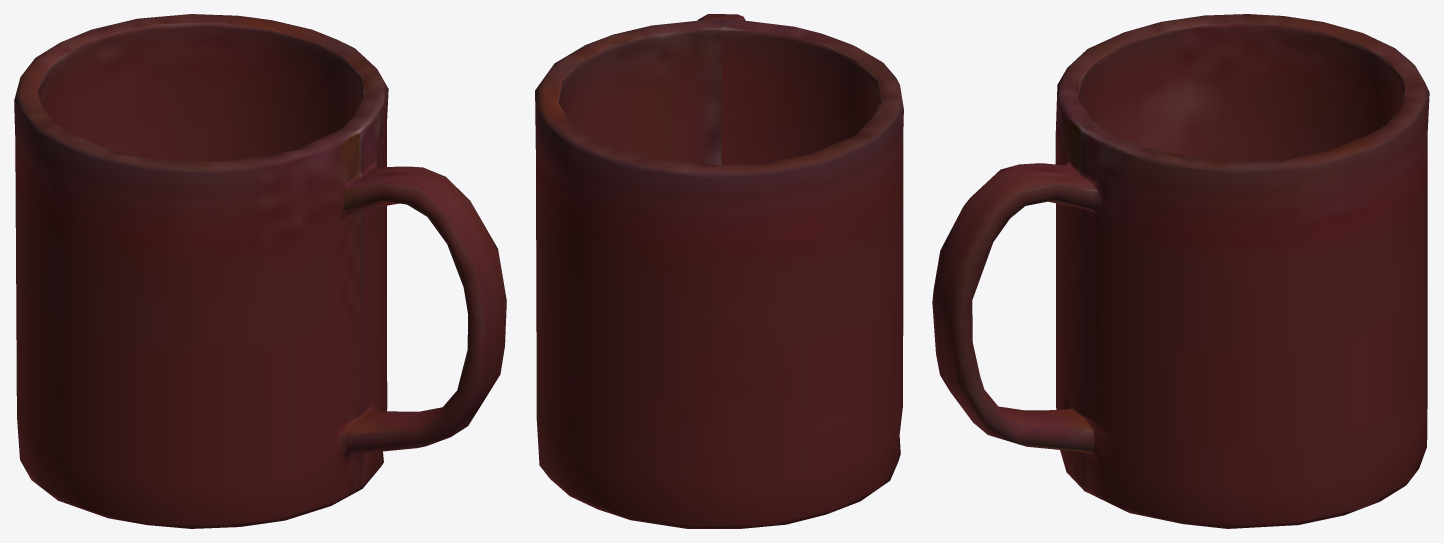
Rendered from SM_Food_Leftover_EO1_N1.glb.
The picture shows the model from 3 angles, left to right: view 1: azimuth 30°, elevation 25°; view 2: azimuth 150°, elevation 25°; view 3: azimuth 270°, elevation 25°; orthographic projection.
Parts seen in each view (by area): view 1: SM_Food_Leftover_EO1_N1; view 2: SM_Food_Leftover_EO1_N1; view 3: SM_Food_Leftover_EO1_N1.
Part boxes in pixels (x1,y1,x2,y2): SM_Food_Leftover_EO1_N1: (14, 14, 506, 528); SM_Food_Leftover_EO1_N1: (535, 14, 903, 528); SM_Food_Leftover_EO1_N1: (932, 14, 1429, 528).
Size of the model in its own units: 0.0916 by 0.0973 by 0.1208.
1 material, 1 textured.
